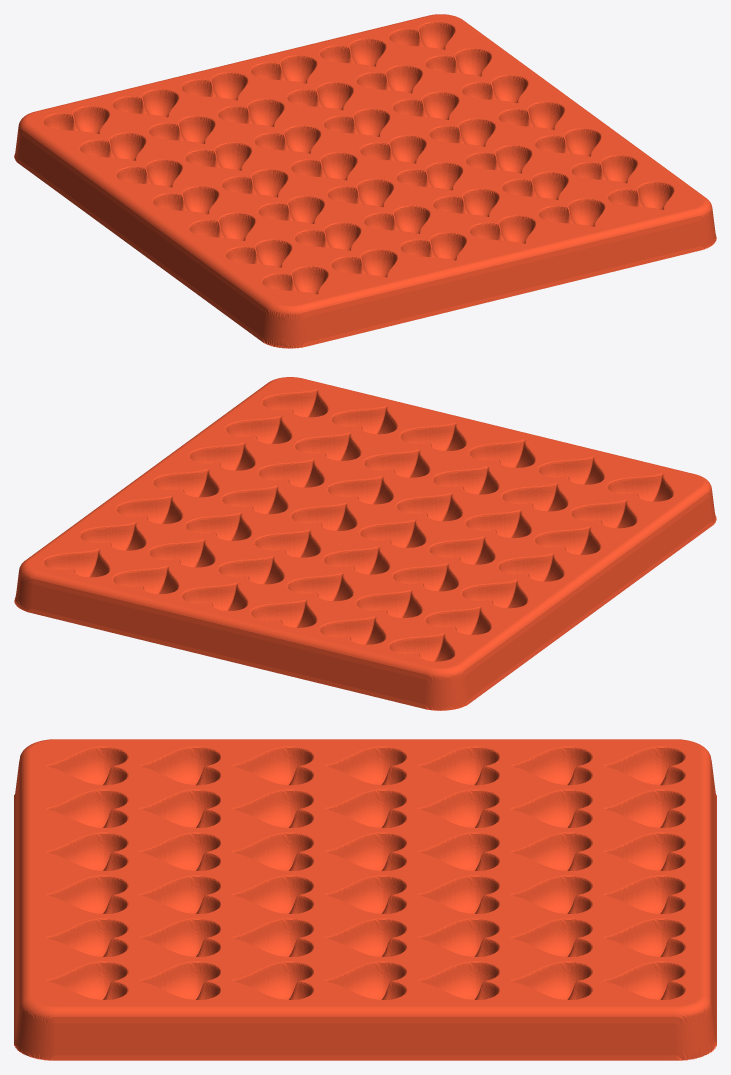
File: mold.glb
3 renders of one model, top to bottom at view 1: azimuth 30°, elevation 25°; view 2: azimuth 150°, elevation 25°; view 3: azimuth 270°, elevation 25°, orthographic. The views are drawn at different scales.
Visible parts, largest first — view 1: geometry_0; view 2: geometry_0; view 3: geometry_0.
Part boxes in pixels (left/top/right/bottom): geometry_0: left=14, top=14, right=716, bottom=348; geometry_0: left=14, top=377, right=716, bottom=710; geometry_0: left=14, top=739, right=716, bottom=1060.
Bounding box in the file's own units: 0.1437 × 0.0114 × 0.1524.
